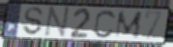2: (69, 7, 92, 40)
7: (143, 10, 165, 42)
C: (93, 9, 118, 40)
M: (113, 10, 144, 40)
N: (43, 6, 72, 40)
S: (22, 6, 45, 37)
